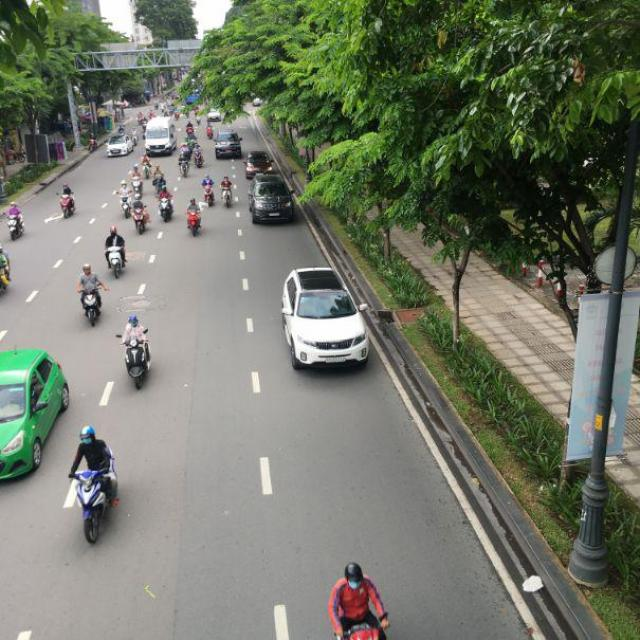bus: (281, 265, 373, 372)
car: (1, 348, 72, 487), (249, 172, 298, 226), (146, 117, 178, 157), (215, 131, 244, 158), (246, 152, 273, 178), (107, 133, 136, 154)
motorcycle: (76, 467, 118, 542), (122, 334, 151, 390), (79, 288, 102, 328), (107, 247, 126, 280), (131, 208, 151, 236), (186, 205, 202, 238), (59, 189, 75, 218), (202, 184, 218, 210), (159, 197, 175, 222), (223, 179, 234, 207)
